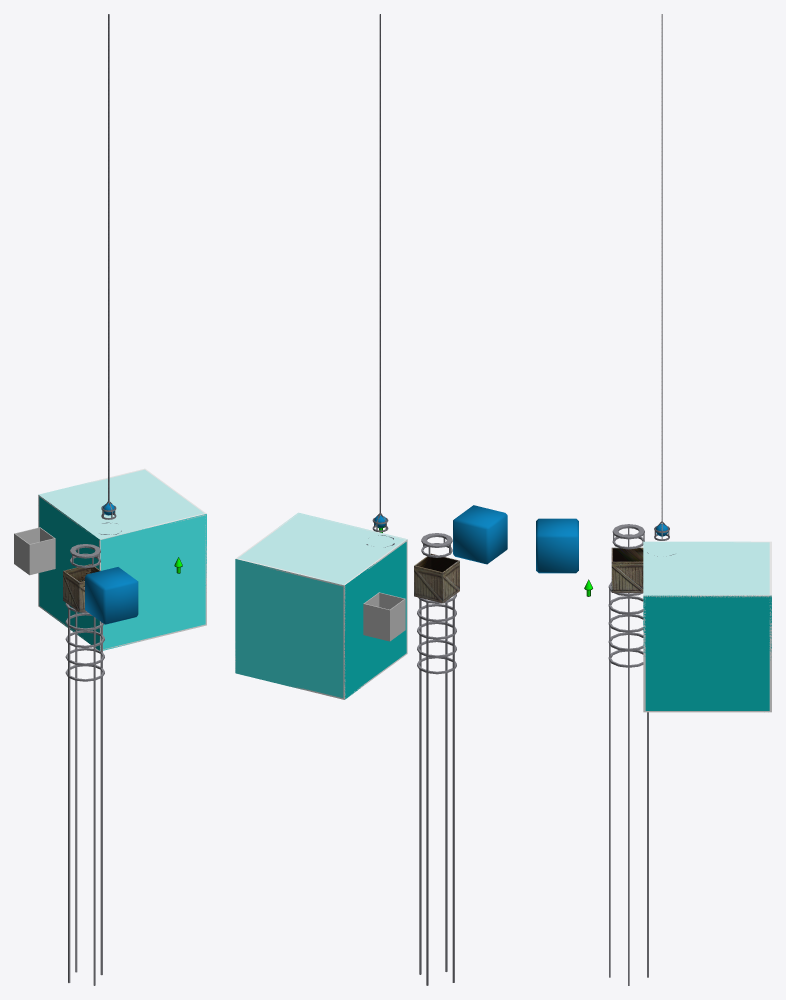
File: AllObjects.fbx
3 views of the same model, side by side, from view 1: azimuth 30°, elevation 25°; view 2: azimuth 150°, elevation 25°; view 3: azimuth 270°, elevation 25° (orthographic). The views are drawn at different scales.
Visible parts, largest first — view 1: BoxOutline, Cup, BoxChrome, Proxy_Cup, BallSucker; view 2: BoxOutline, Cup, BoxChrome, Proxy_Cup, BallSucker; view 3: BoxOutline, Cup, BoxChrome, BallSucker.
Part boxes in pixels (bbox=[...]): BoxOutline: bbox=[38, 468, 206, 650]; Cup: bbox=[63, 544, 104, 985]; BoxChrome: bbox=[85, 567, 138, 624]; Proxy_Cup: bbox=[14, 527, 55, 575]; BallSucker: bbox=[101, 14, 116, 519]; BoxOutline: bbox=[235, 512, 407, 699]; Cup: bbox=[414, 533, 459, 985]; BoxChrome: bbox=[453, 505, 507, 564]; Proxy_Cup: bbox=[363, 592, 405, 641]; BallSucker: bbox=[372, 14, 388, 532]; BoxOutline: bbox=[643, 541, 771, 712]; Cup: bbox=[608, 524, 648, 985]; BoxChrome: bbox=[536, 518, 578, 573]; BallSucker: bbox=[654, 14, 669, 540].
Bounding box in the file's own units: 69.29 × 405 × 88.09.
21 materials, 6 textured.
